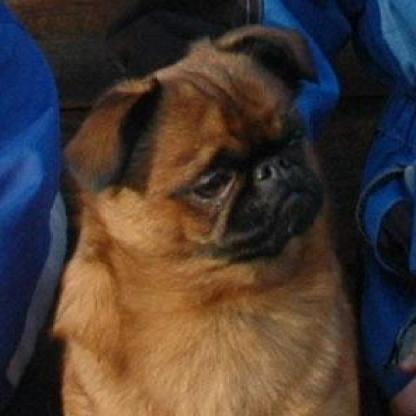Brabancon_griffon: (46, 21, 362, 414)
